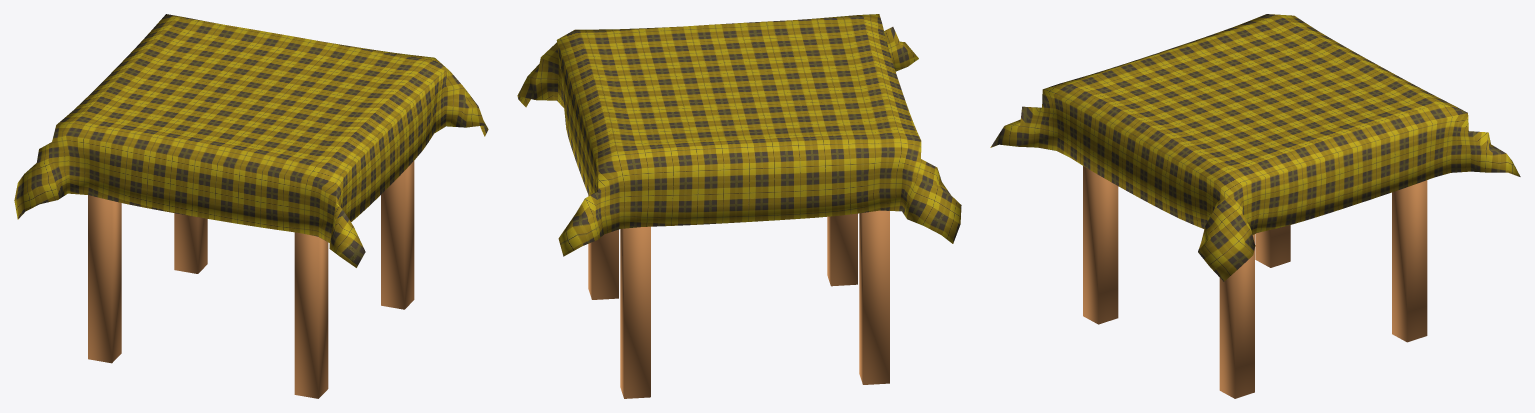
File: table.glb
3 renders of one model, left to right at view 1: azimuth 30°, elevation 25°; view 2: azimuth 150°, elevation 25°; view 3: azimuth 270°, elevation 25°, orthographic. The views are drawn at different scales.
Visible parts, largest first — view 1: Plane.025, Plane.007; view 2: Plane.025, Plane.007; view 3: Plane.025, Plane.007.
Boxes of the visible parts, left/top/right/bottom form: Plane.025: left=14, top=14, right=488, bottom=267; Plane.007: left=88, top=161, right=414, bottom=398; Plane.025: left=517, top=14, right=961, bottom=256; Plane.007: left=588, top=195, right=889, bottom=398; Plane.025: left=990, top=14, right=1520, bottom=281; Plane.007: left=1083, top=166, right=1427, bottom=398.
Bounding box in the file's own units: 2.05 × 1.07 × 2.21.
Materials: 2 (1 with a texture image).
